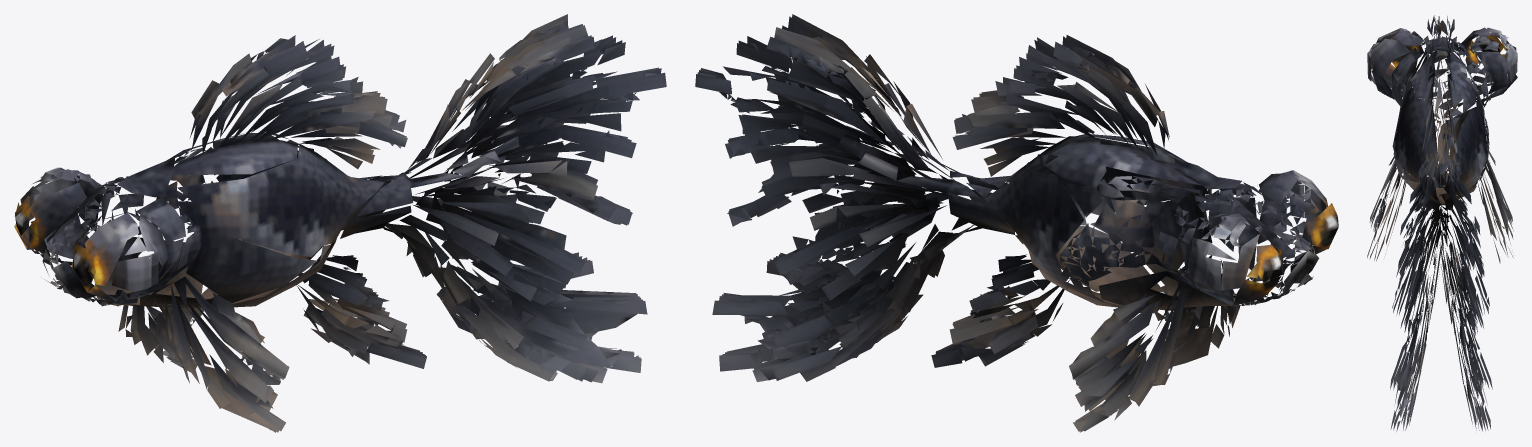
The model's file is fish_c.glb.
3 views of the same model, side by side, from view 1: azimuth 30°, elevation 25°; view 2: azimuth 150°, elevation 25°; view 3: azimuth 270°, elevation 25° (orthographic). The views are drawn at different scales.
Visible parts, largest first — view 1: node_0; view 2: node_0; view 3: node_0.
Boxes of the visible parts, x1,y1,x2,y2 form: node_0: (14,14,666,432); node_0: (695,14,1338,432); node_0: (1367,15,1517,431).
Size of the model in its own units: 1.1 by 0.6946 by 0.3171.
1 material, 1 textured.
